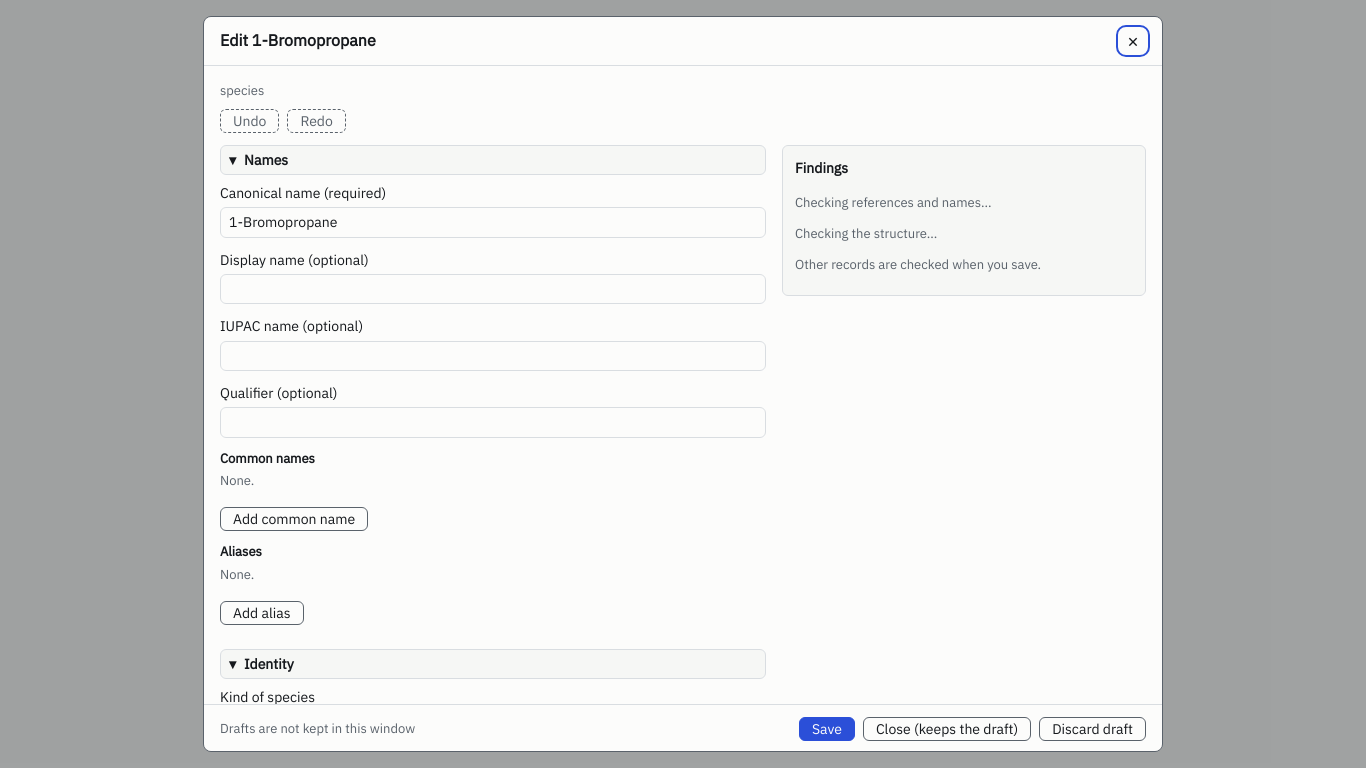
Test: answers carry the draft version › drops an answer for an older draft: it never shows over a newer one
Replace the text in the field labelled "Canonical name (required)" with "Changed" at x=493, y=223, box [220,207,766,238]
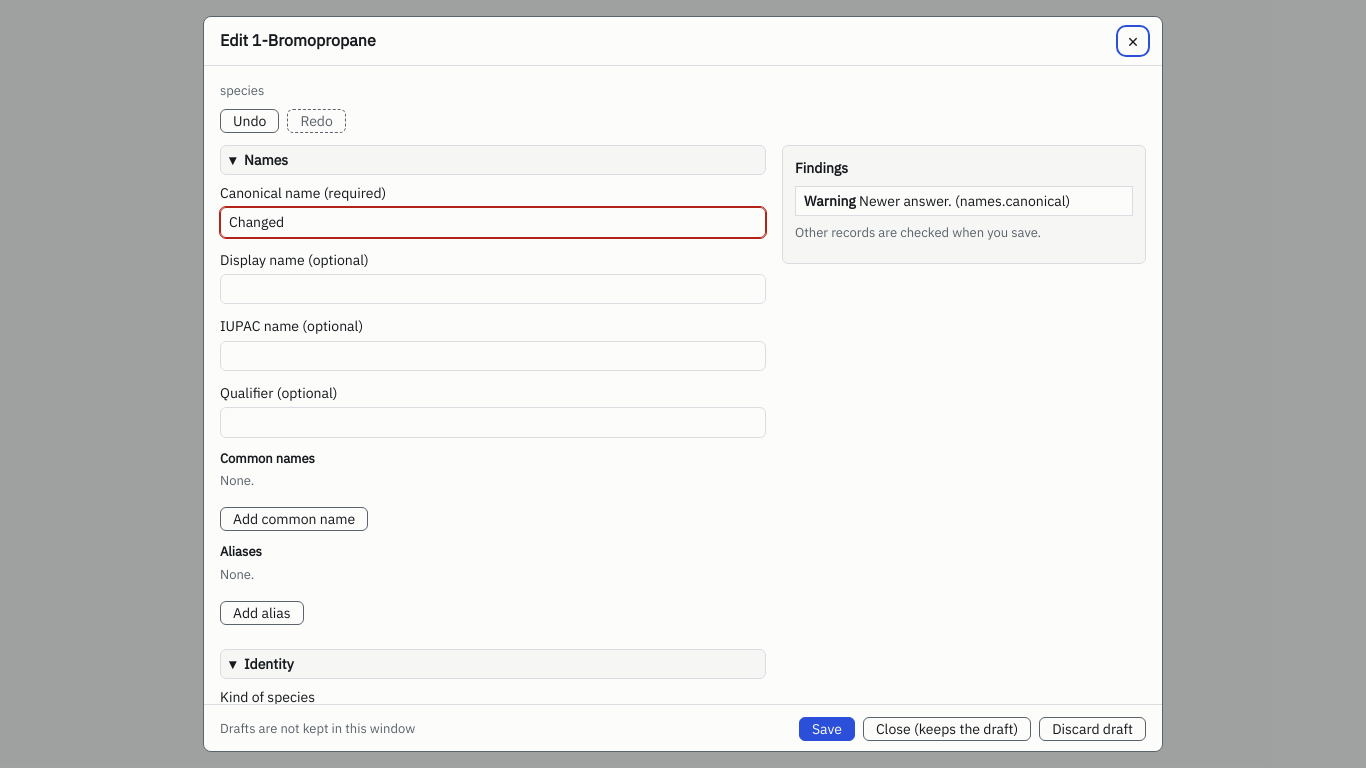
Expected: the button "Warning Newer answer. (names.canonical)" is shown, [795,186,1133,216]
